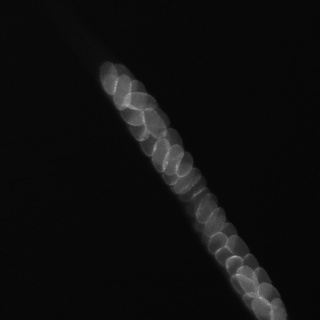embryo: (113, 74, 137, 110), (141, 107, 166, 138), (238, 266, 260, 298), (188, 187, 211, 217), (162, 128, 184, 159), (161, 162, 189, 186), (150, 137, 169, 172), (174, 168, 201, 192), (180, 175, 207, 199), (243, 293, 271, 316), (164, 144, 184, 176), (205, 208, 226, 238), (226, 235, 251, 260), (231, 272, 255, 298), (125, 92, 157, 111), (120, 103, 145, 126), (129, 79, 147, 110), (259, 283, 281, 308), (100, 62, 117, 94), (198, 194, 218, 221), (220, 222, 238, 251), (254, 267, 272, 296), (129, 115, 149, 141), (207, 232, 228, 254), (139, 130, 157, 155), (214, 246, 234, 268), (242, 254, 261, 277), (176, 152, 194, 176), (226, 255, 244, 279)
